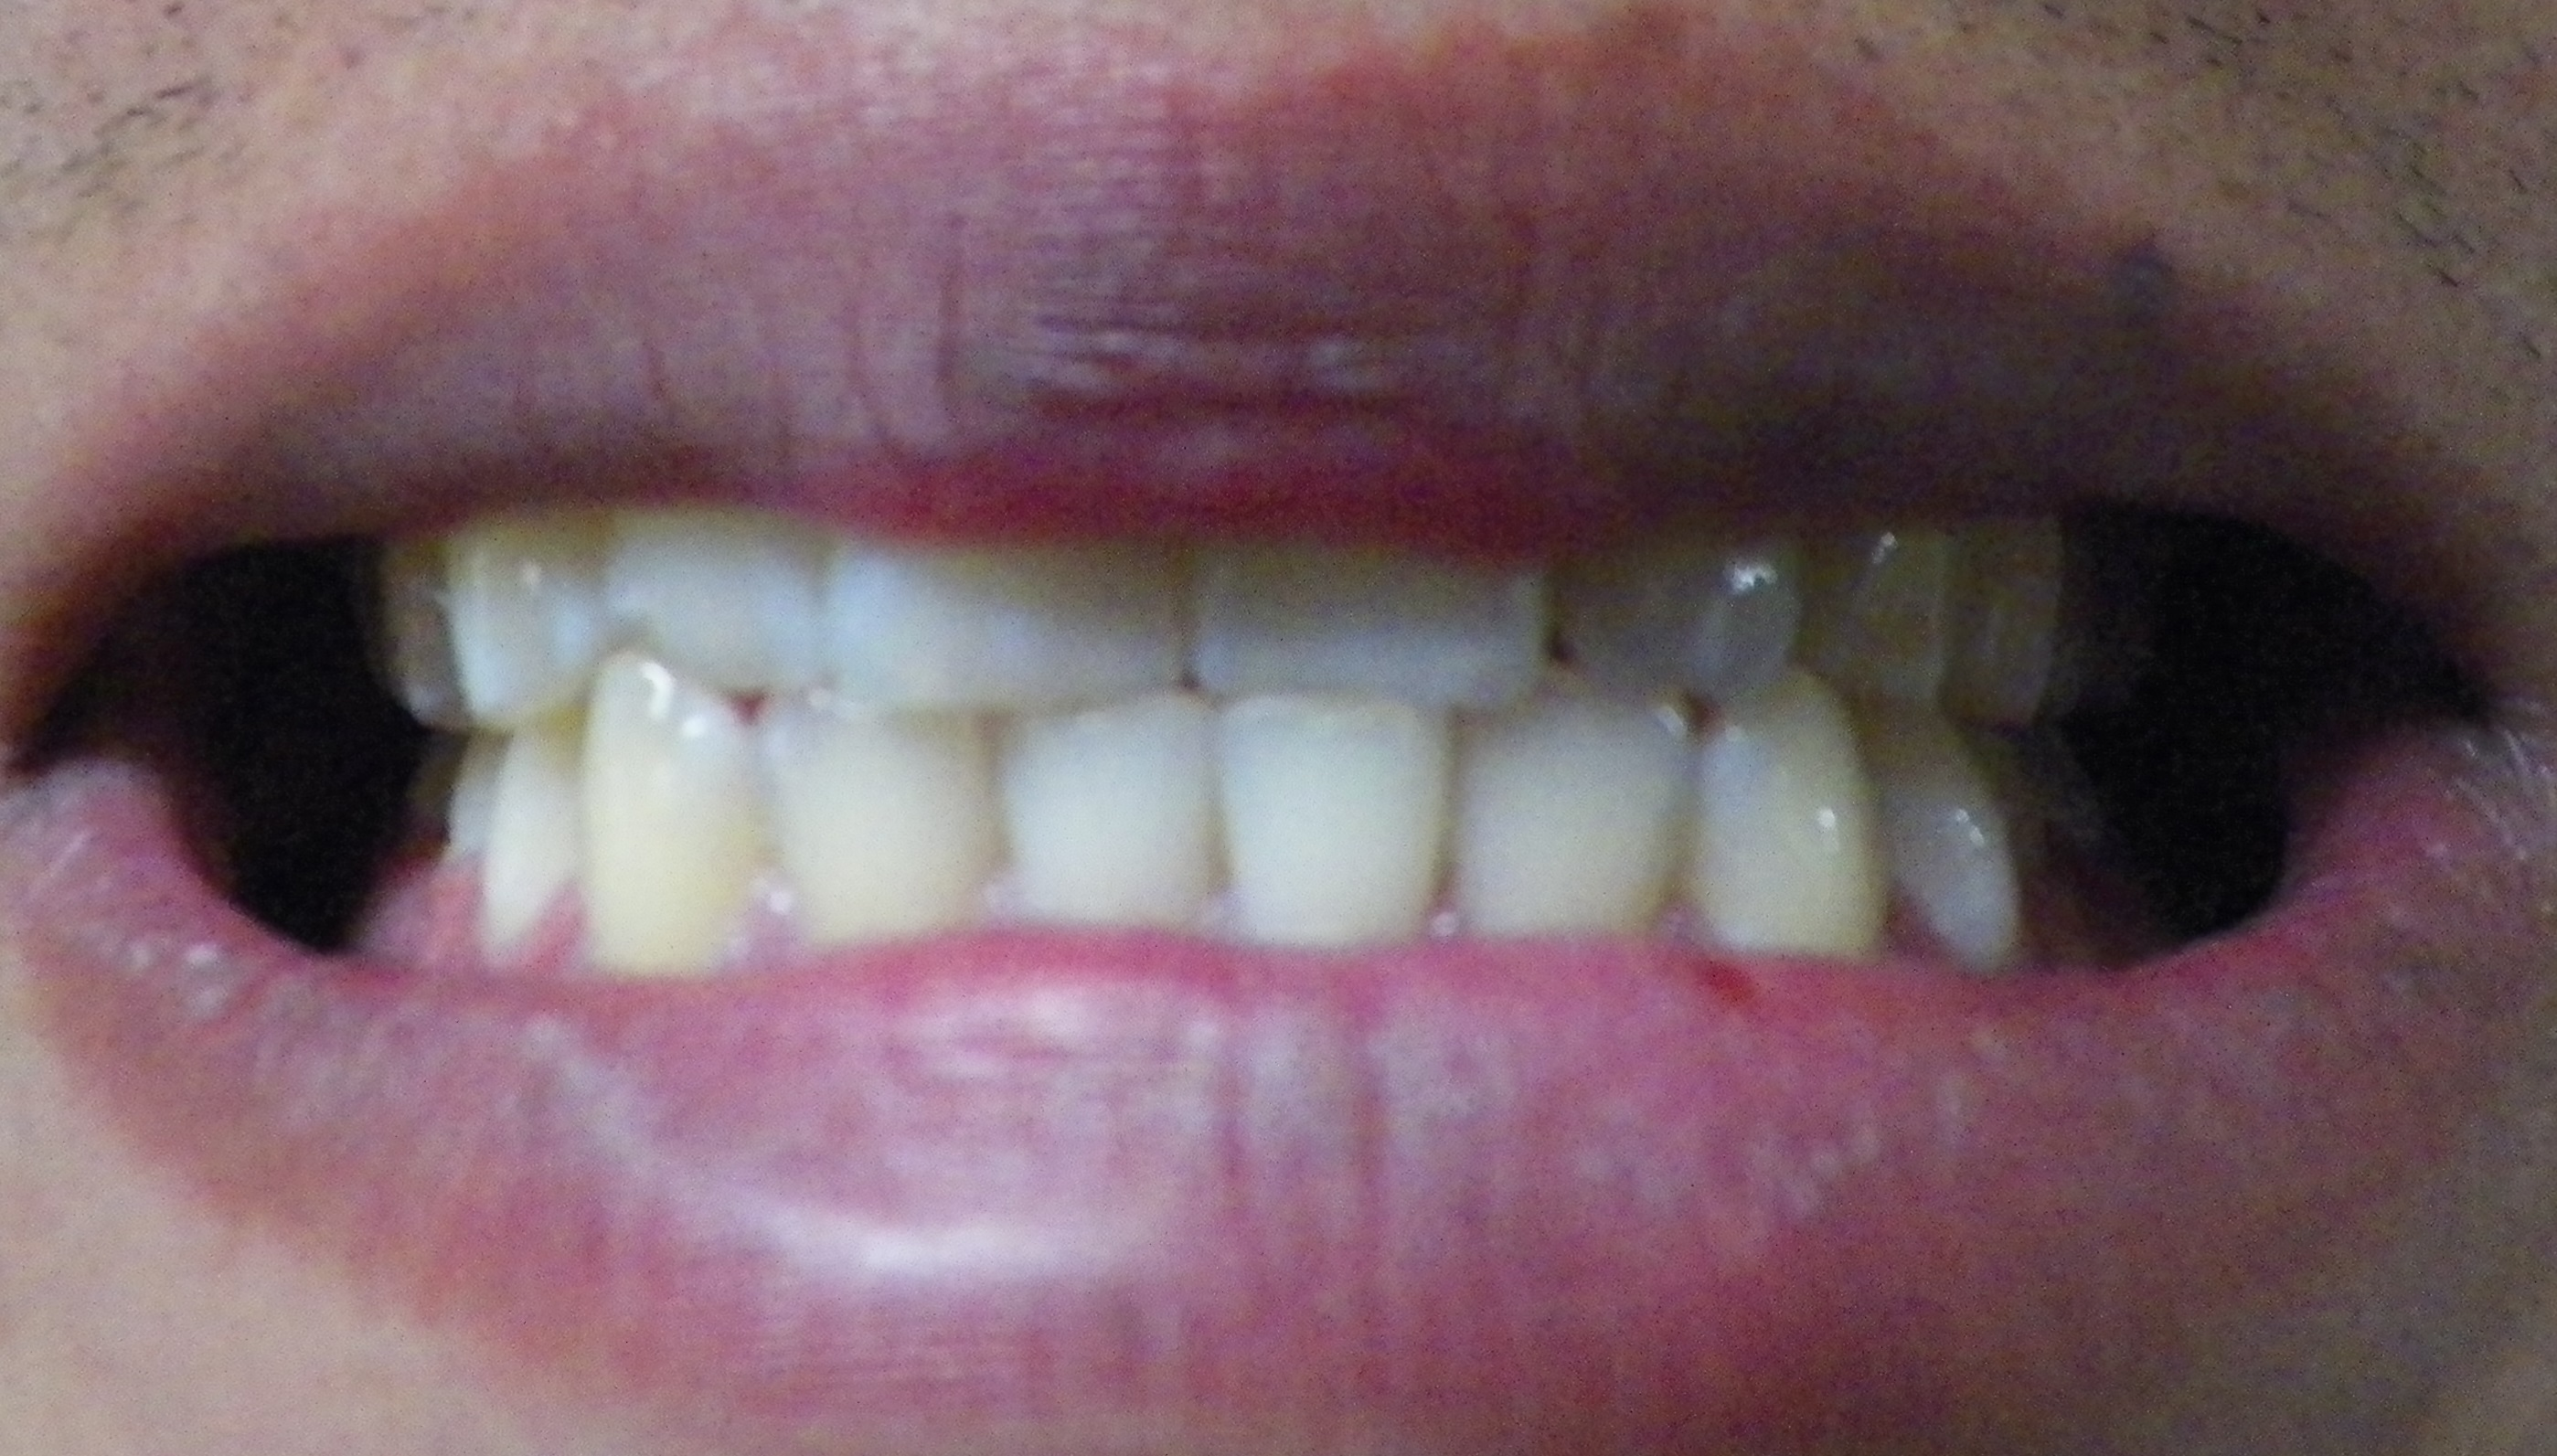boca: (378, 522, 2056, 964)
